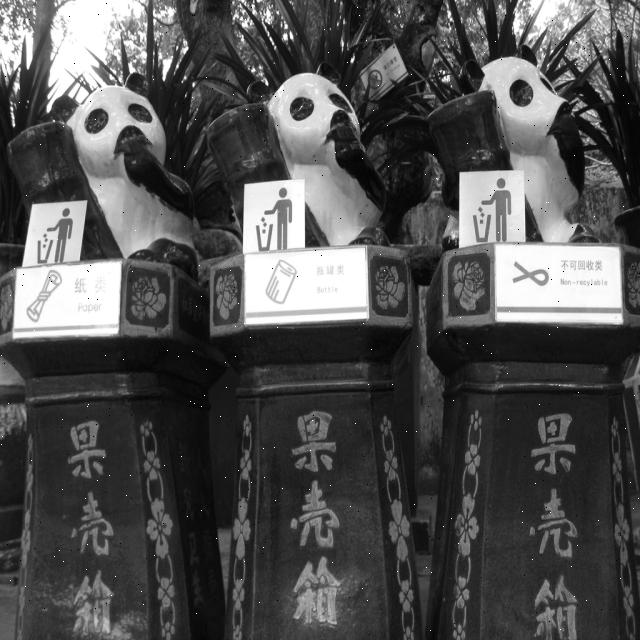panda: (47, 66, 202, 285), (441, 41, 587, 249), (245, 61, 390, 253)
